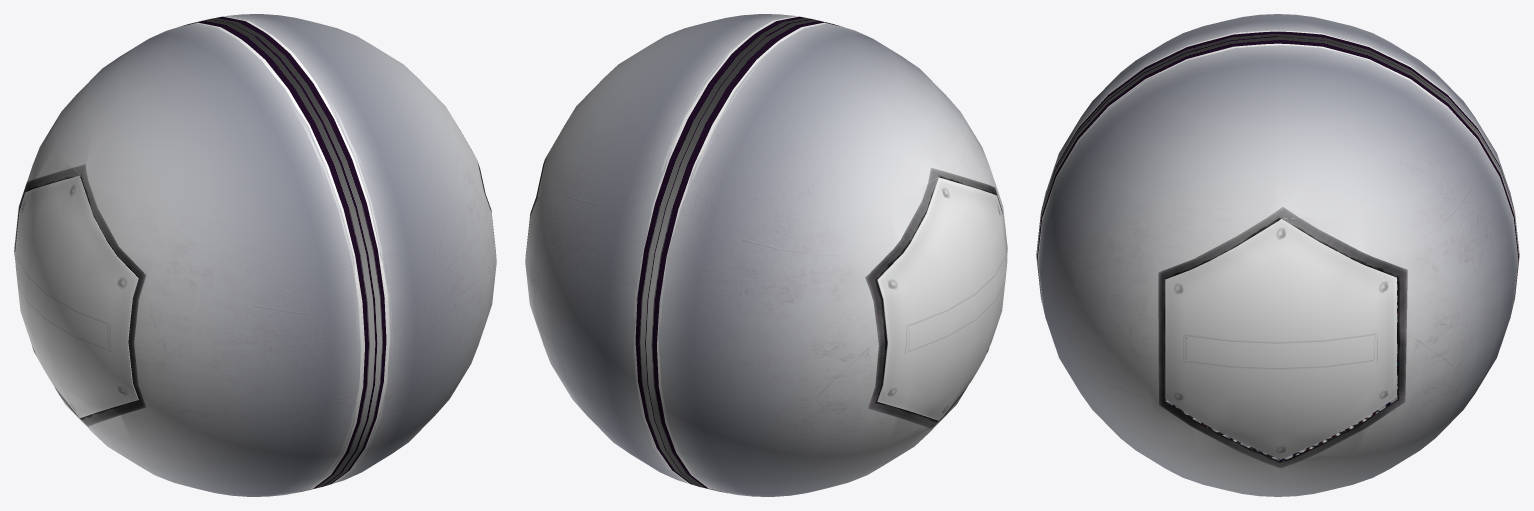
Rendered from Bit_base.FBX.
3 views of the same model, side by side, from view 1: azimuth 30°, elevation 25°; view 2: azimuth 150°, elevation 25°; view 3: azimuth 270°, elevation 25° (orthographic).
Visible parts, largest first — view 1: Sphere004, Sphere005, Cylinder003; view 2: Sphere004, Sphere005, Cylinder003; view 3: Sphere005, Cylinder009, Sphere004, Cylinder015.
Boxes of the visible parts, x1,y1,x2,y2 form: Sphere004: [14, 19, 376, 496]; Sphere005: [209, 14, 496, 486]; Cylinder003: [15, 175, 138, 418]; Sphere004: [645, 19, 1007, 496]; Sphere005: [525, 14, 812, 486]; Cylinder003: [877, 177, 1007, 420]; Sphere005: [1036, 36, 1519, 496]; Cylinder009: [1165, 219, 1396, 459]; Sphere004: [1041, 14, 1514, 210]; Cylinder015: [1165, 277, 1397, 461].
Bounding box in the file's own units: 31.17 × 31.5 × 31.5.
